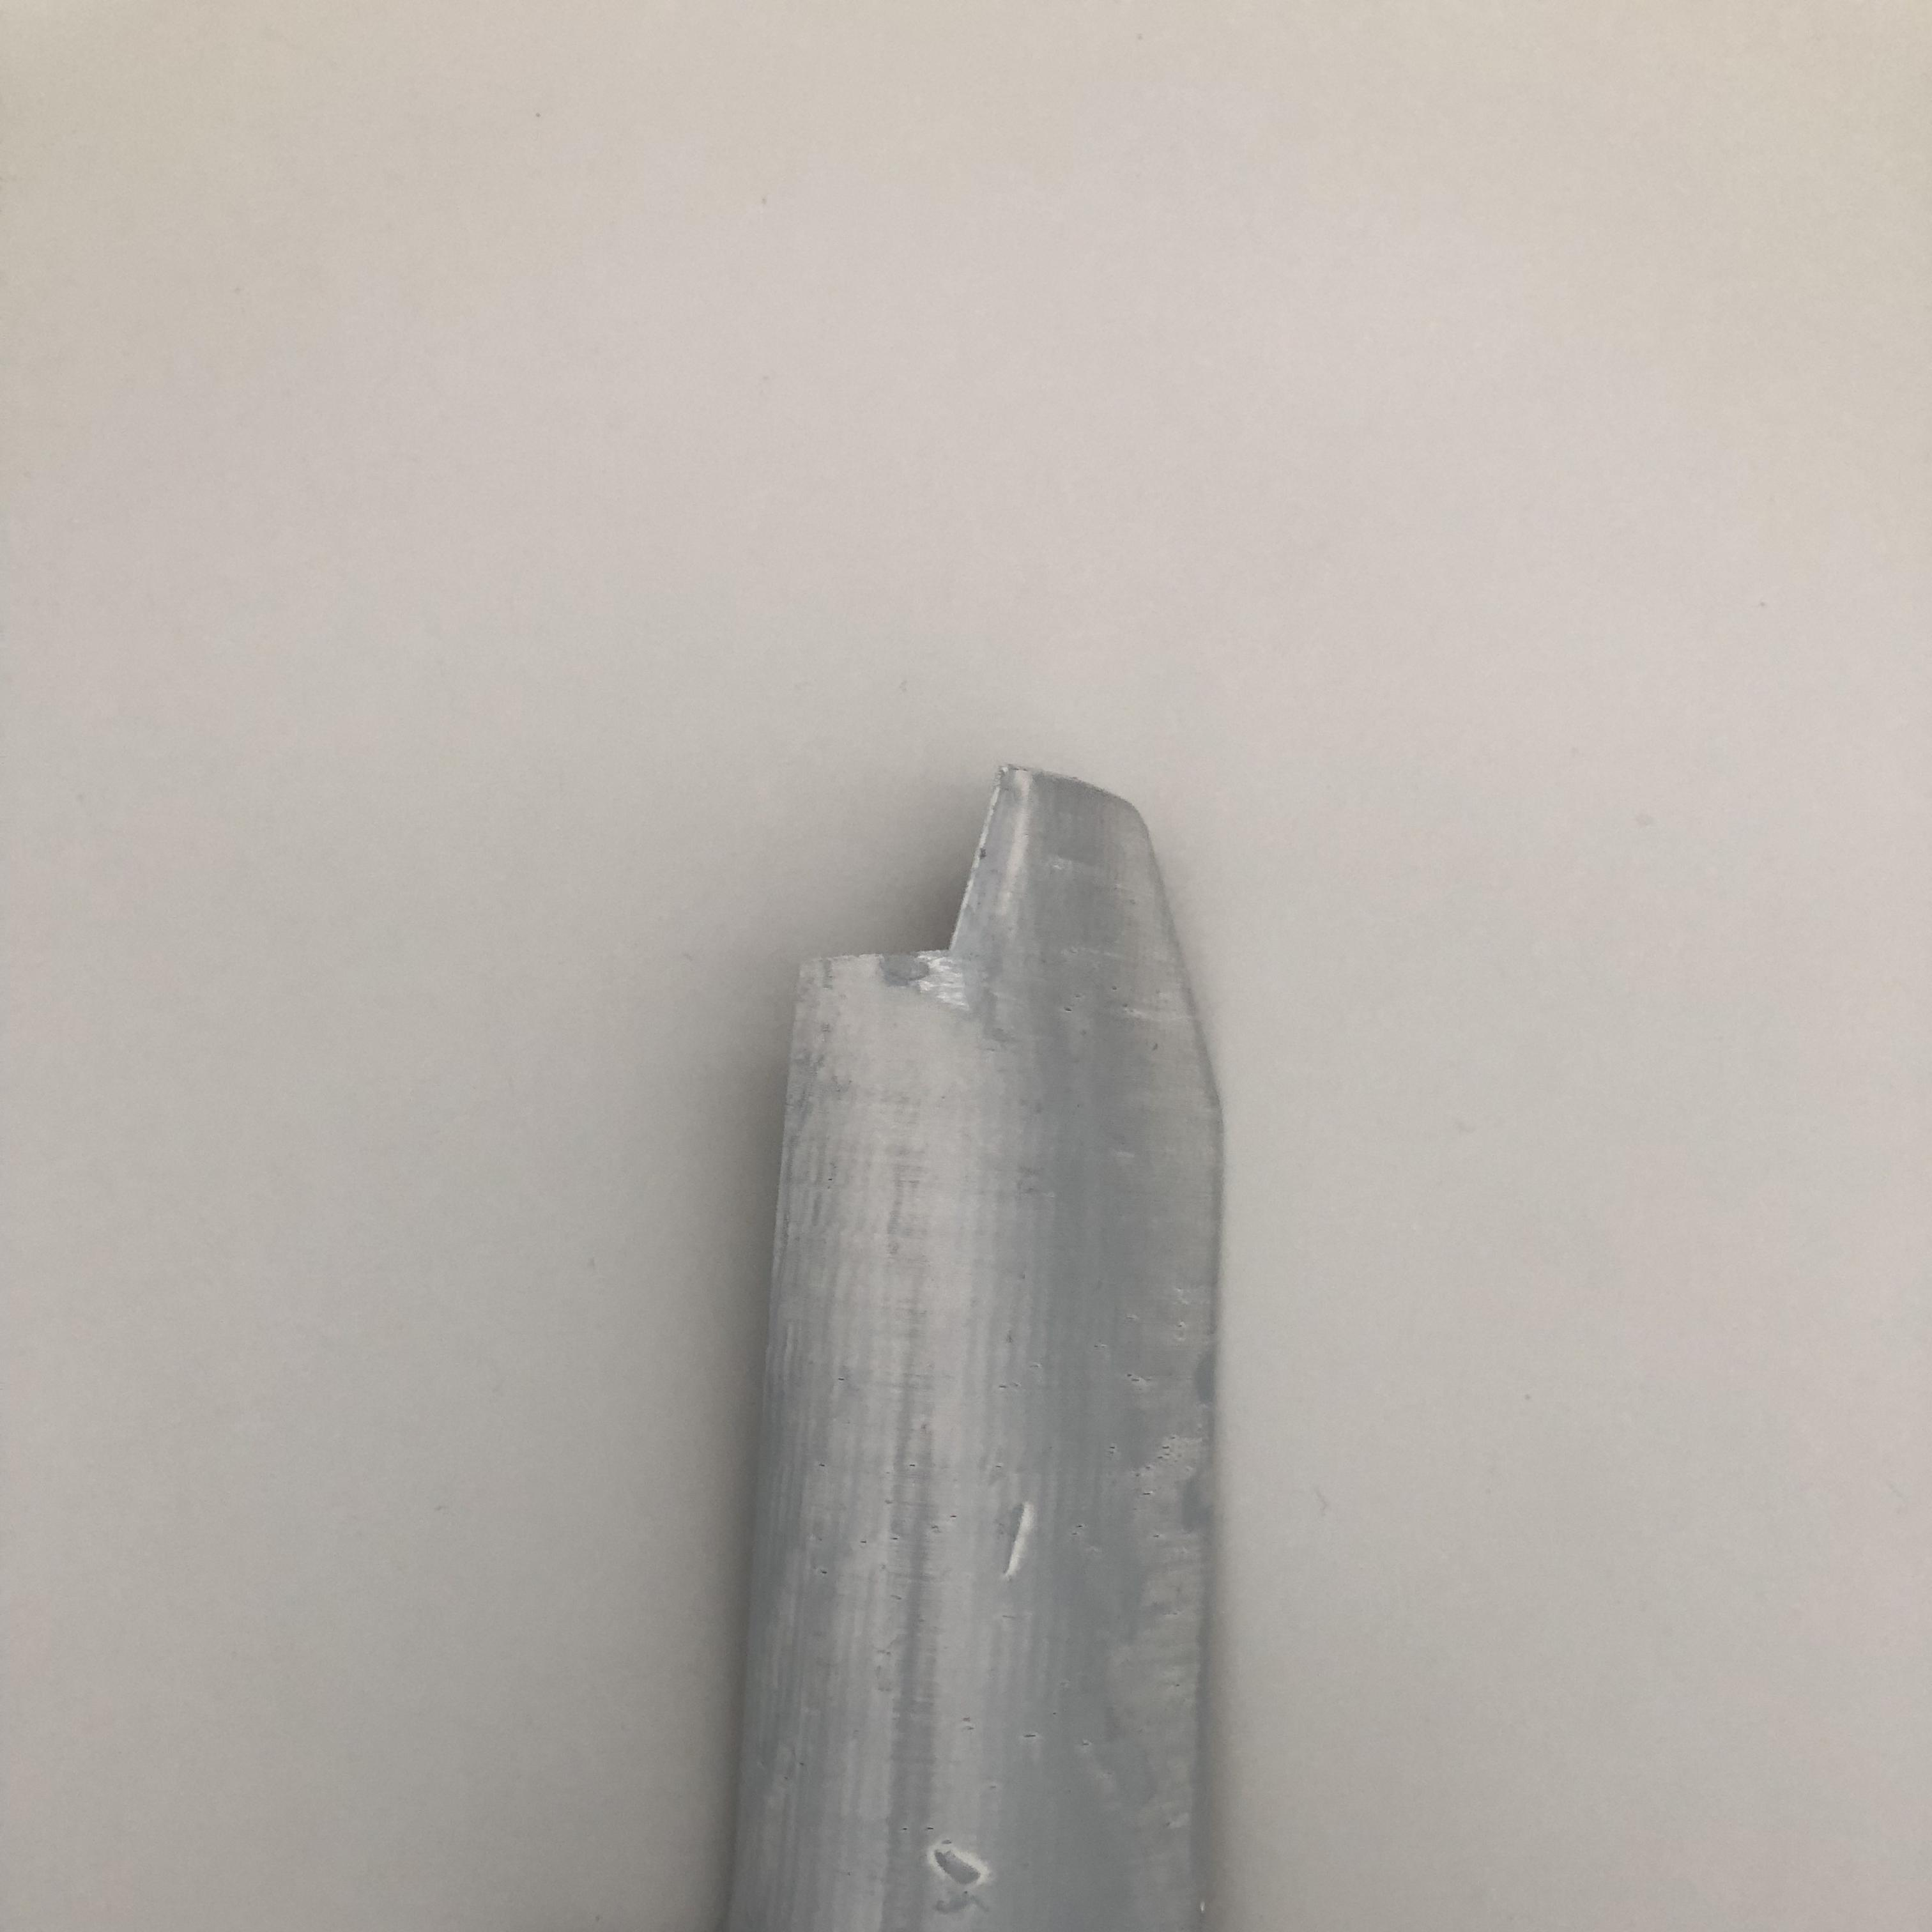fracture: (798, 761, 1031, 982)
